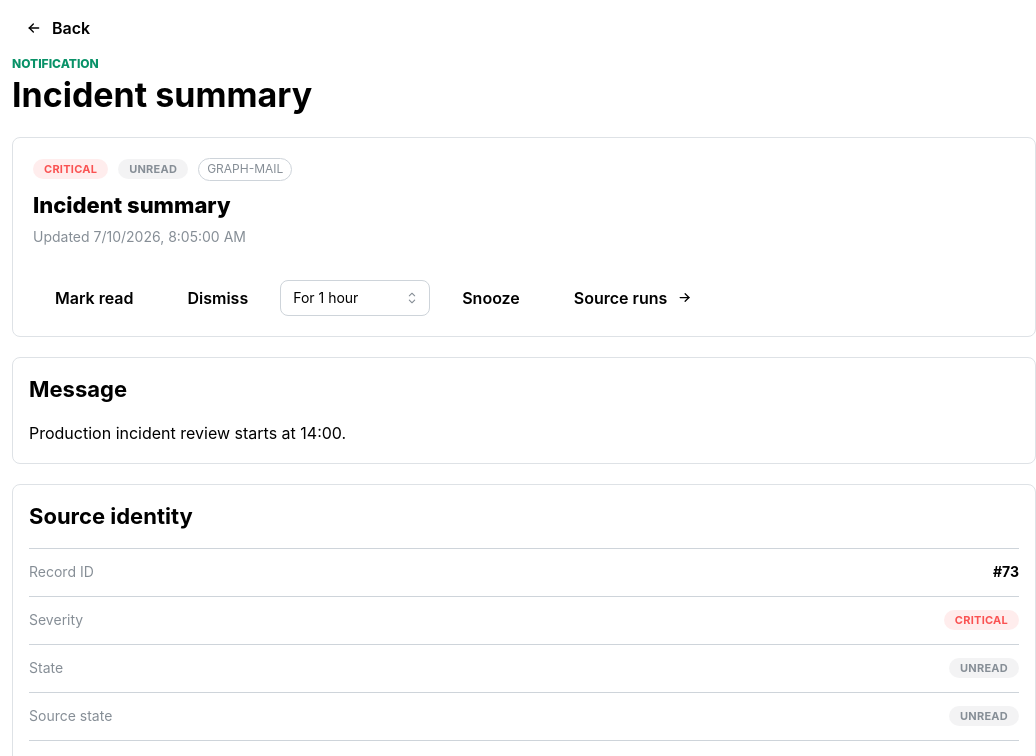
Test: NotificationDetailView actions › keeps the current notification visible when an action fails
Step 1. Click the button "Dismiss" → (218, 298), box [166,280,270,316]
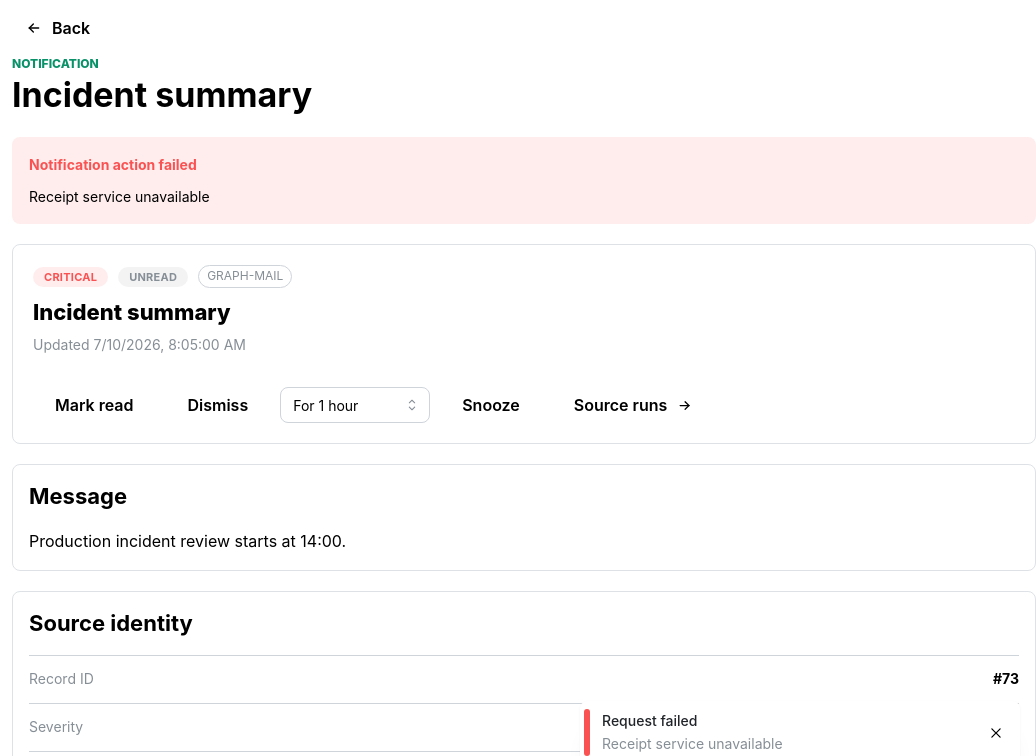
Expected: the heading "Incident summary" is shown, [12,74,312,115]
Expected: the text "Receipt service unavailable" below "Notification action failed" is shown, [29,188,210,205]
